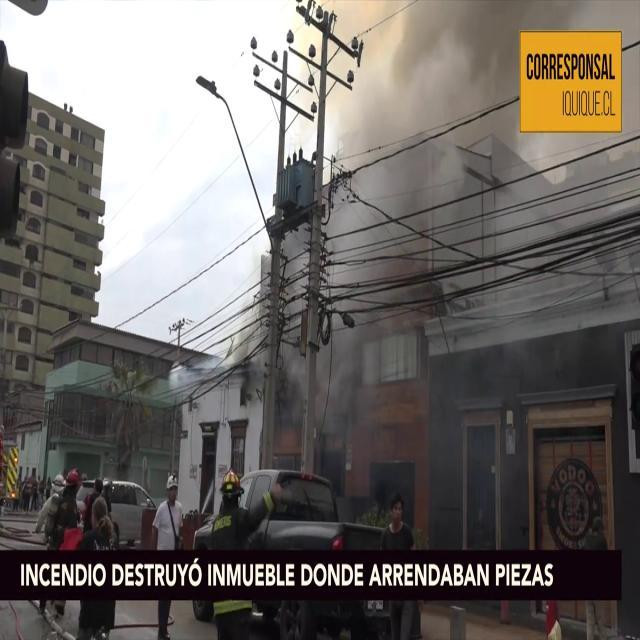Smoke: (250, 2, 526, 520)
